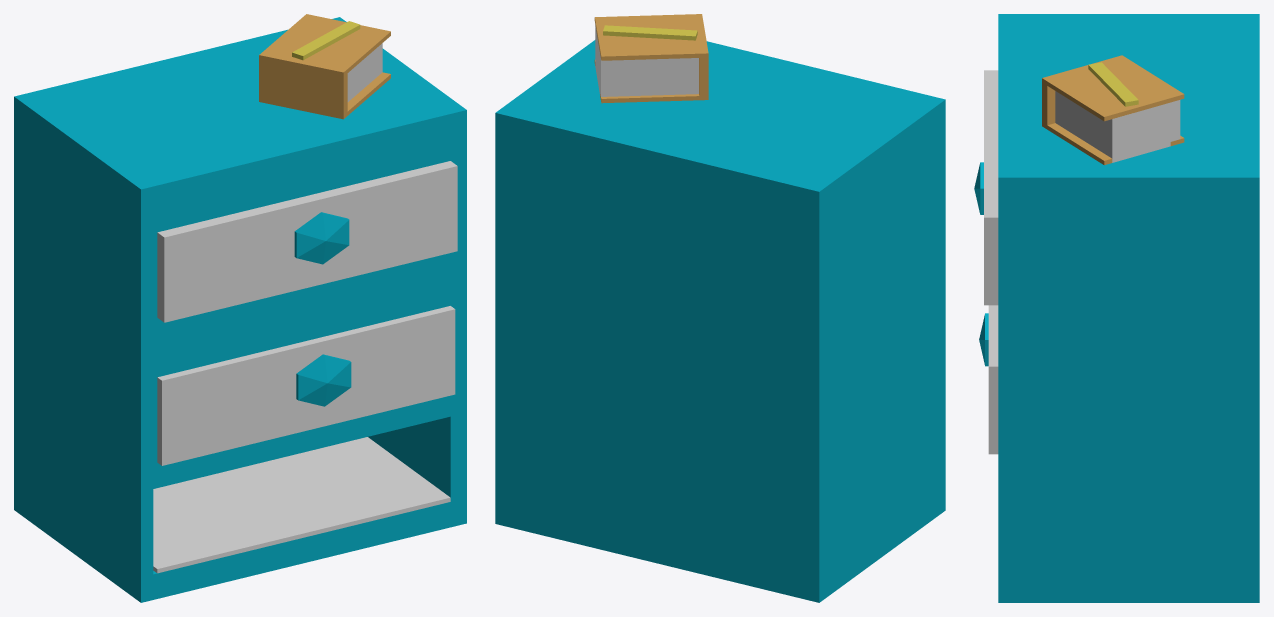
Rendered from Project 149.glb.
The picture shows the model from 3 angles, left to right: view 1: azimuth 30°, elevation 25°; view 2: azimuth 150°, elevation 25°; view 3: azimuth 270°, elevation 25°; orthographic projection. The views are drawn at different scales.
Visible parts, largest first — view 1: Mesh_Mesh_head_geo.001_lambert2SG.001; view 2: Mesh_Mesh_head_geo.001_lambert2SG.001; view 3: Mesh_Mesh_head_geo.001_lambert2SG.001.
Part boxes in pixels (x1,y1,x2,y2): Mesh_Mesh_head_geo.001_lambert2SG.001: (14, 14, 466, 602); Mesh_Mesh_head_geo.001_lambert2SG.001: (495, 14, 945, 602); Mesh_Mesh_head_geo.001_lambert2SG.001: (974, 14, 1259, 602).
Bounding box in the file's own units: 80 × 109 × 59.
